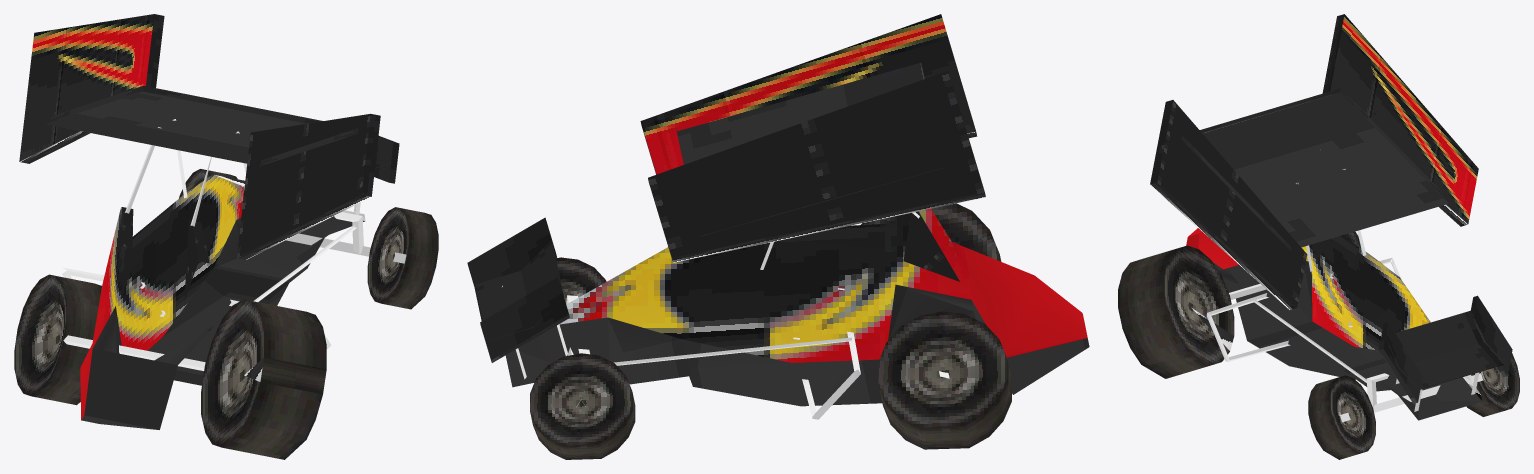
Rendered from ps2_save-icons_sprintcarsroadtoknoxville.glb.
The picture shows the model from 3 angles, left to right: view 1: azimuth 30°, elevation 25°; view 2: azimuth 150°, elevation 25°; view 3: azimuth 270°, elevation 25°; orthographic projection. The views are drawn at different scales.
Visible parts, largest first — view 1: sc2007.ico; view 2: sc2007.ico; view 3: sc2007.ico.
Part boxes in pixels (<box>): sc2007.ico: <box>14,14,438,459</box>; sc2007.ico: <box>467,14,1089,459</box>; sc2007.ico: <box>1118,14,1519,459</box>.
Bounding box in the file's own units: 3.31 × 2.56 × 3.11.
1 material, 1 textured.
